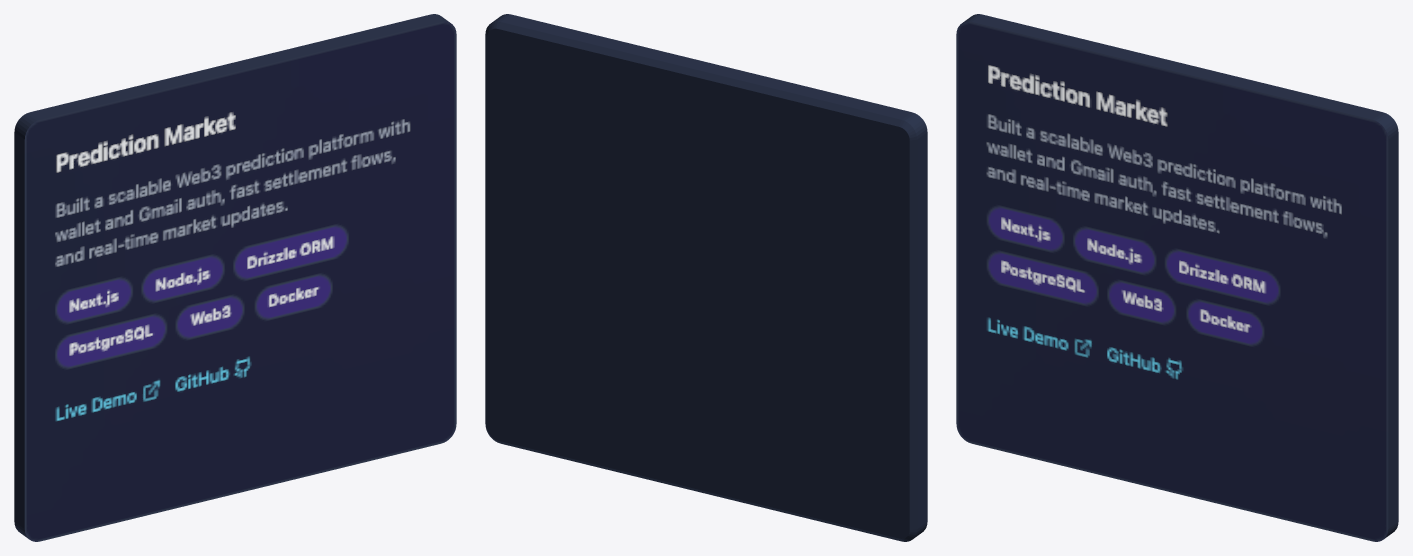
File: 02-prediction-market.glb
3 renders of one model, left to right at view 1: azimuth 30°, elevation 25°; view 2: azimuth 150°, elevation 25°; view 3: azimuth 330°, elevation 25°, orthographic.
Visible parts, largest first — view 1: prediction-market; view 2: prediction-market; view 3: prediction-market.
Part boxes in pixels (<box>): prediction-market: <box>14,14,456,541</box>; prediction-market: <box>485,14,927,541</box>; prediction-market: <box>956,14,1398,541</box>.
Size of the model in its own units: 2 by 1.87 by 0.105.
2 materials, 1 textured.
